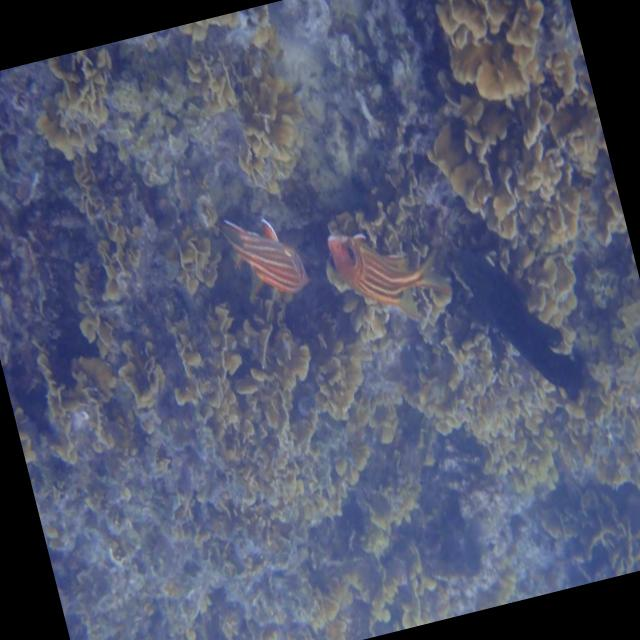Asker Baligi: (316, 190, 470, 350), (206, 180, 326, 326)
